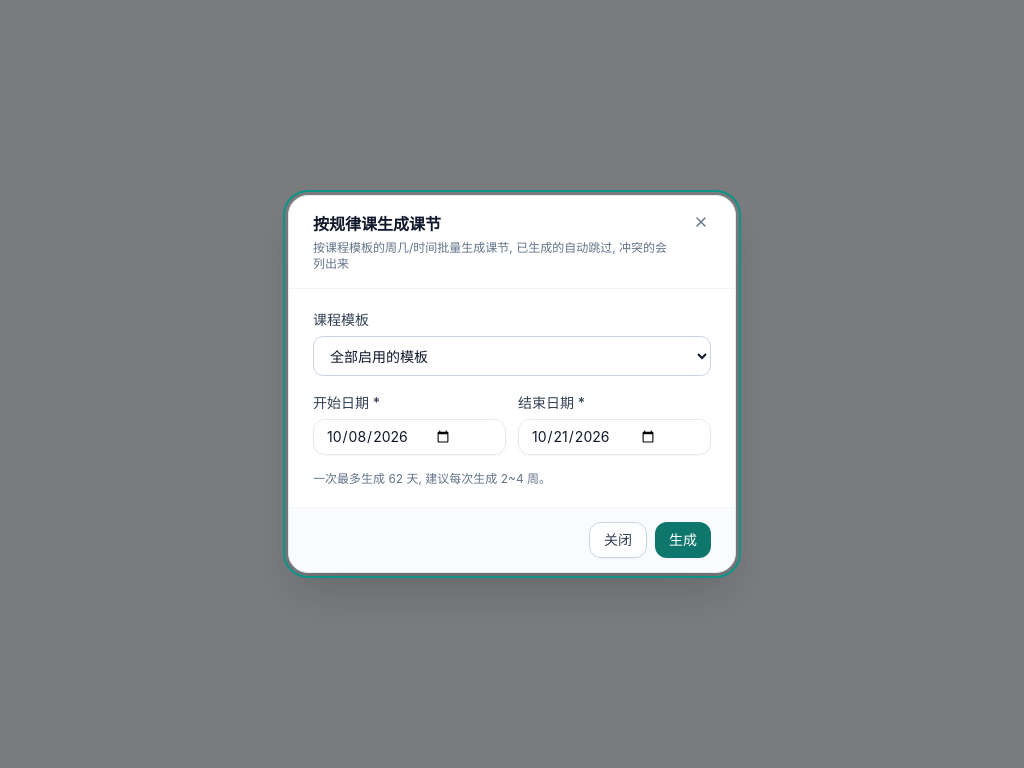
Test case: 生成失败时显示错误且不会报告成功刷新
Click the button "生成": (683, 540) [655,522,711,558]
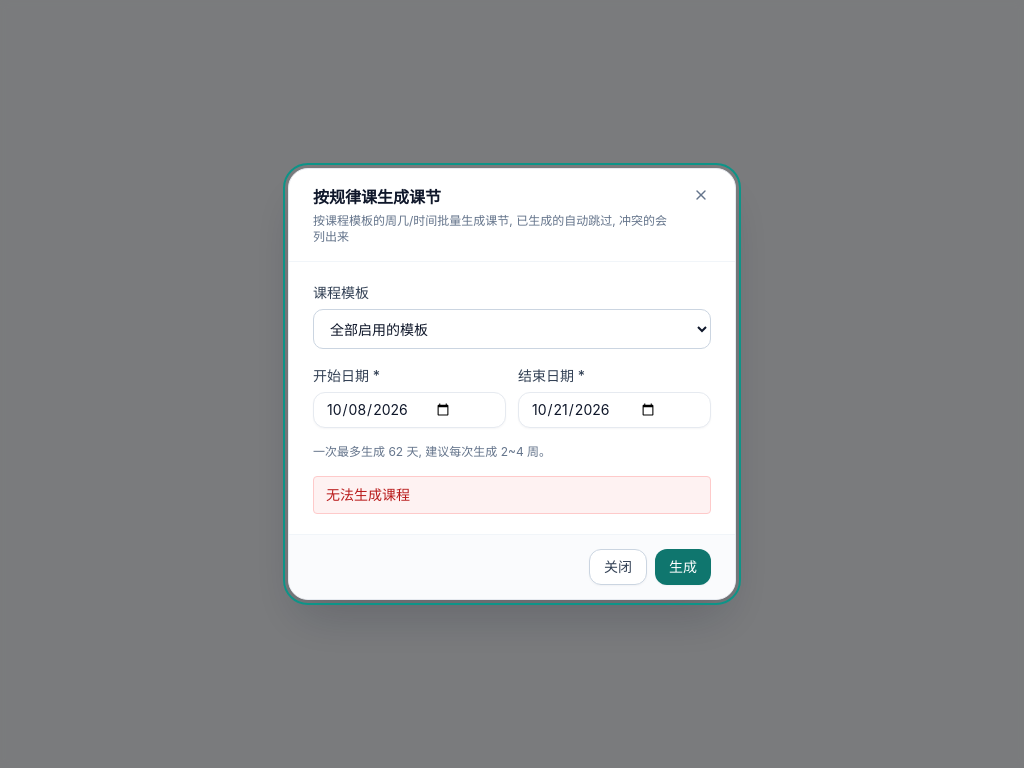
Now the text "无法生成课程" is shown, box [313,476,711,514]
